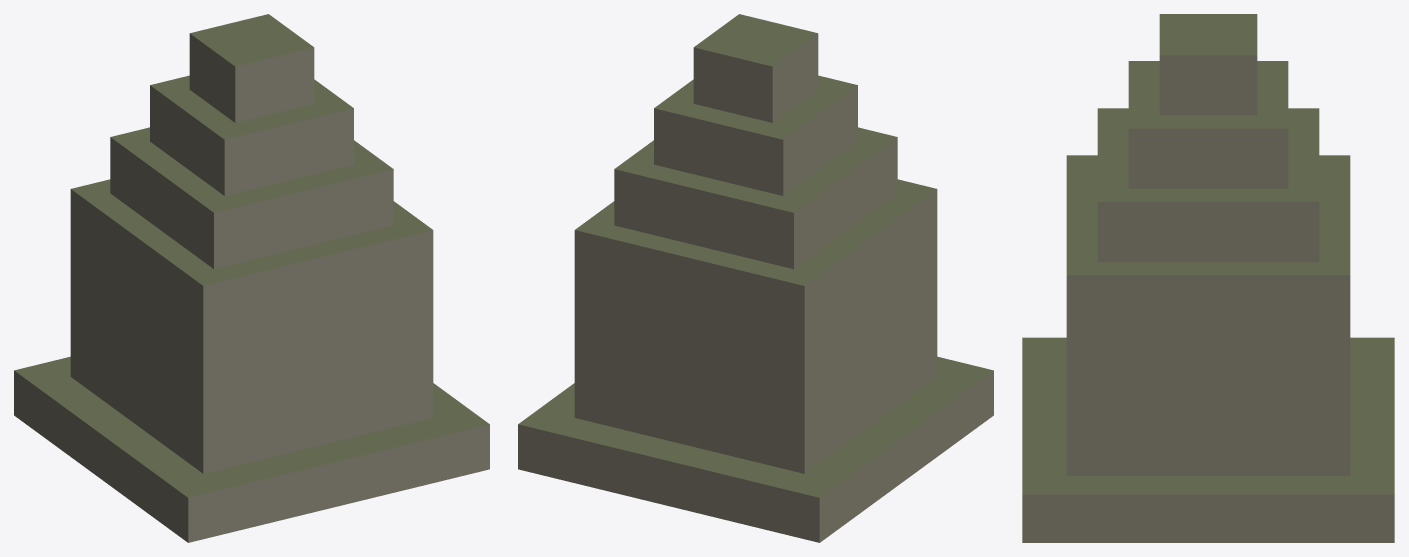
Rendered from ruin-shrine.far-facades-v3.lod2.glb.
3 views of the same model, side by side, from view 1: azimuth 30°, elevation 25°; view 2: azimuth 150°, elevation 25°; view 3: azimuth 270°, elevation 25° (orthographic). The views are drawn at different scales.
Parts seen in each view (by area): view 1: ruin-shrine; view 2: ruin-shrine; view 3: ruin-shrine.
Boxes of the visible parts, x1,y1,x2,y2 form: ruin-shrine: [14, 14, 489, 542]; ruin-shrine: [518, 14, 993, 542]; ruin-shrine: [1022, 14, 1394, 542].
Size of the model in its own units: 8.4 by 10.7 by 8.4.
